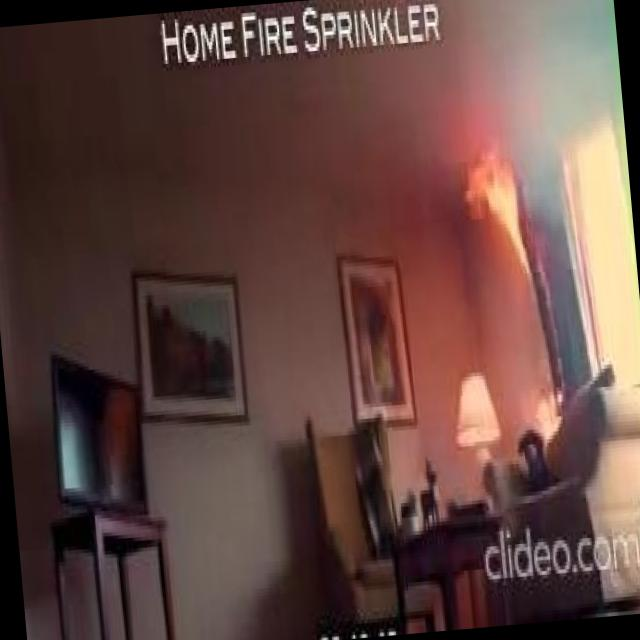fire: (445, 100, 568, 343)
